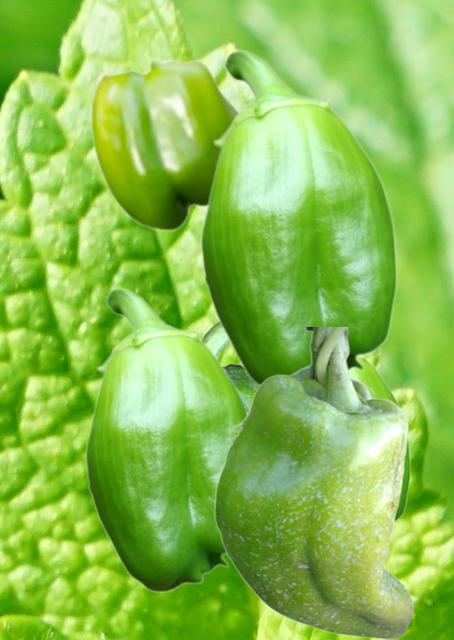bell_pepper: (199, 49, 397, 386), (213, 327, 413, 638), (84, 287, 247, 592), (90, 57, 239, 231), (350, 356, 410, 522), (202, 322, 256, 408)
